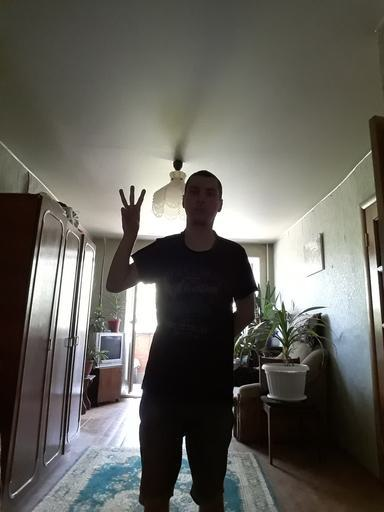three: (118, 184, 147, 235)
